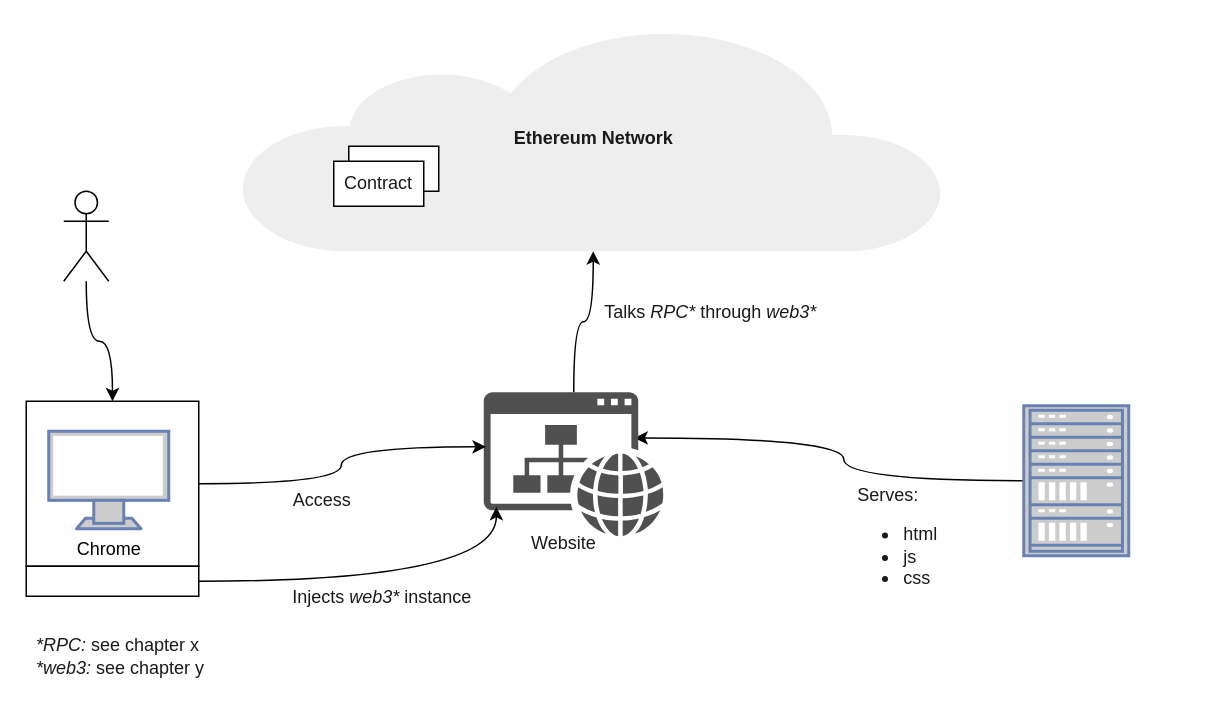
Some shapes in this 1215 by 704 pixel diagram are drawn without their labels. Each missing label, with the centre of its shape:
Metamask plugin: the point at 112,580
Webserver: the point at 1076,480
